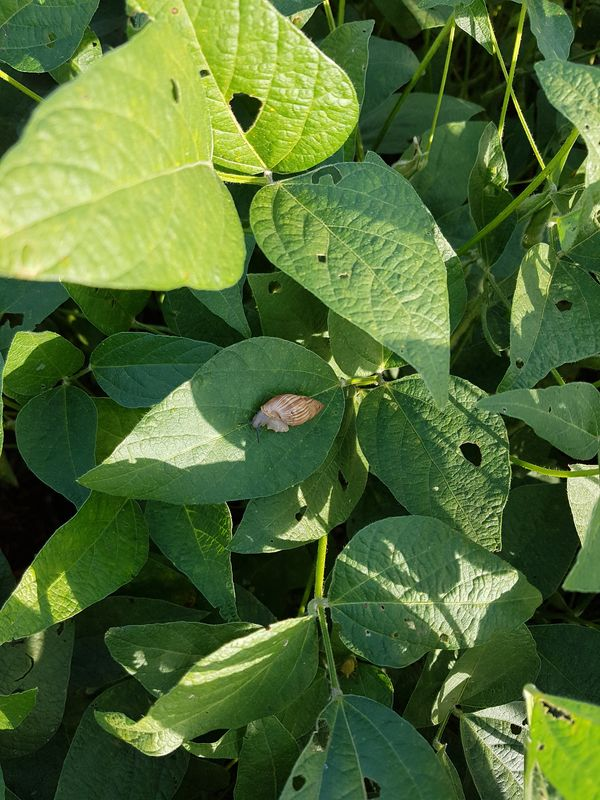Gastropoda: (239, 376, 333, 452)
